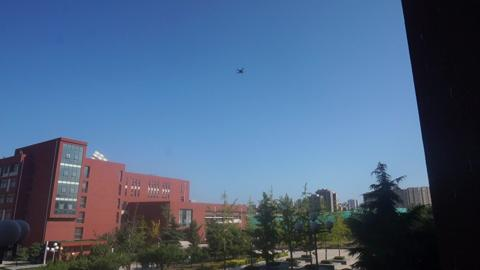UAV: (236, 68, 246, 74)
